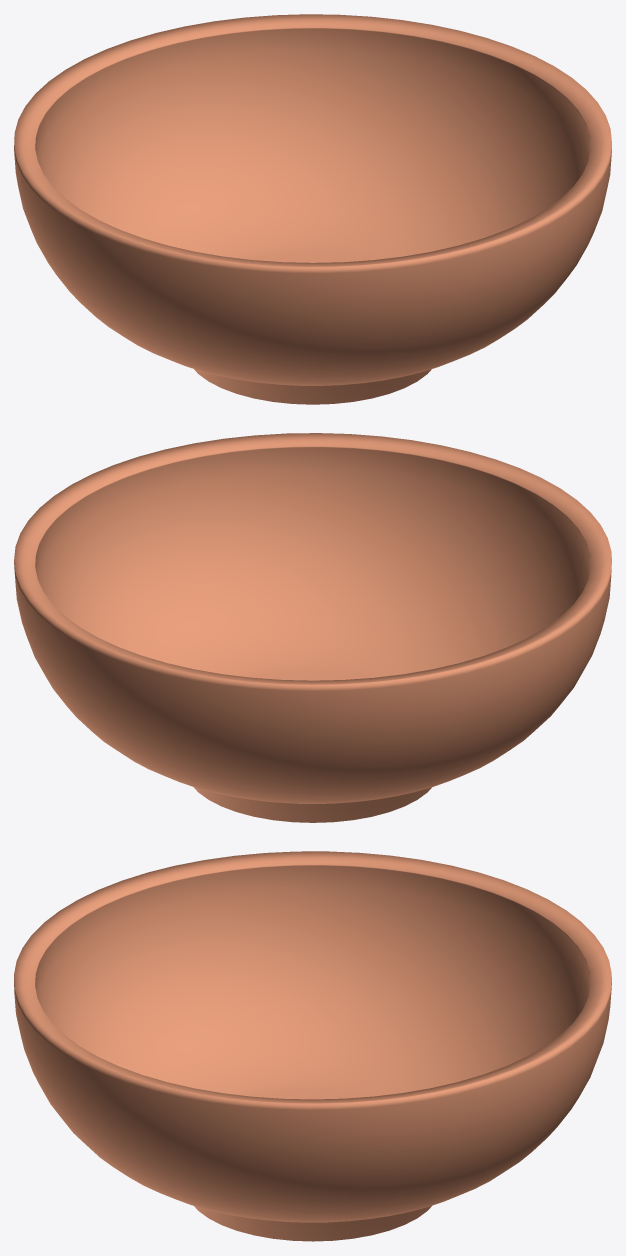
Rendered from scale.glb.
The picture shows the model from 3 angles, top to bottom: view 1: azimuth 30°, elevation 25°; view 2: azimuth 150°, elevation 25°; view 3: azimuth 270°, elevation 25°; orthographic projection.
Visible parts, largest first — view 1: Color001.010; view 2: Color001.010; view 3: Color001.010.
Part boxes in pixels (x1,y1,x2,y2): Color001.010: [14, 14, 611, 404]; Color001.010: [14, 433, 611, 822]; Color001.010: [14, 851, 611, 1241].
Bounding box in the file's own units: 0.7022 × 0.2729 × 0.7022.
